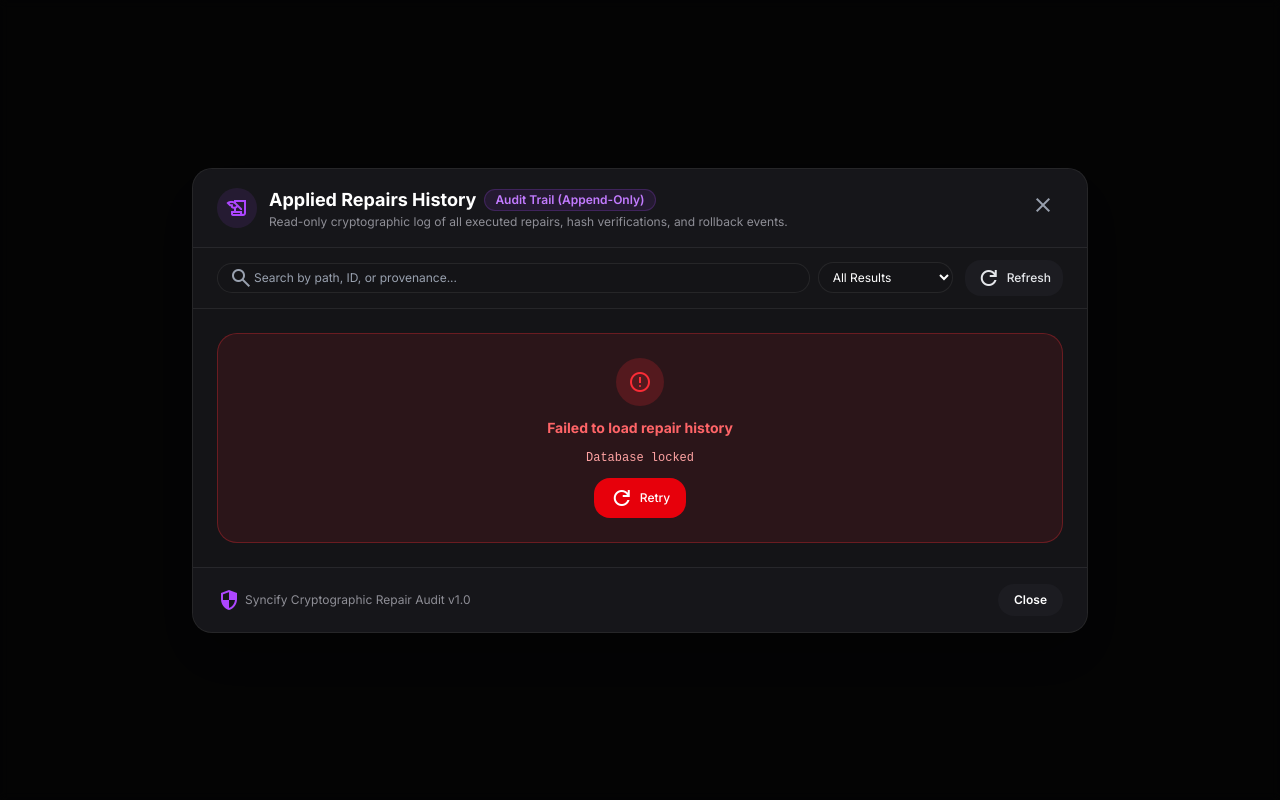
RepairHistoryModal › renders error state on command failure and allows retry
What coordinates should you click on to do the following:
click the button "Retry"
I would click on:
 (640, 498)
Its box is [594,478,686,518].
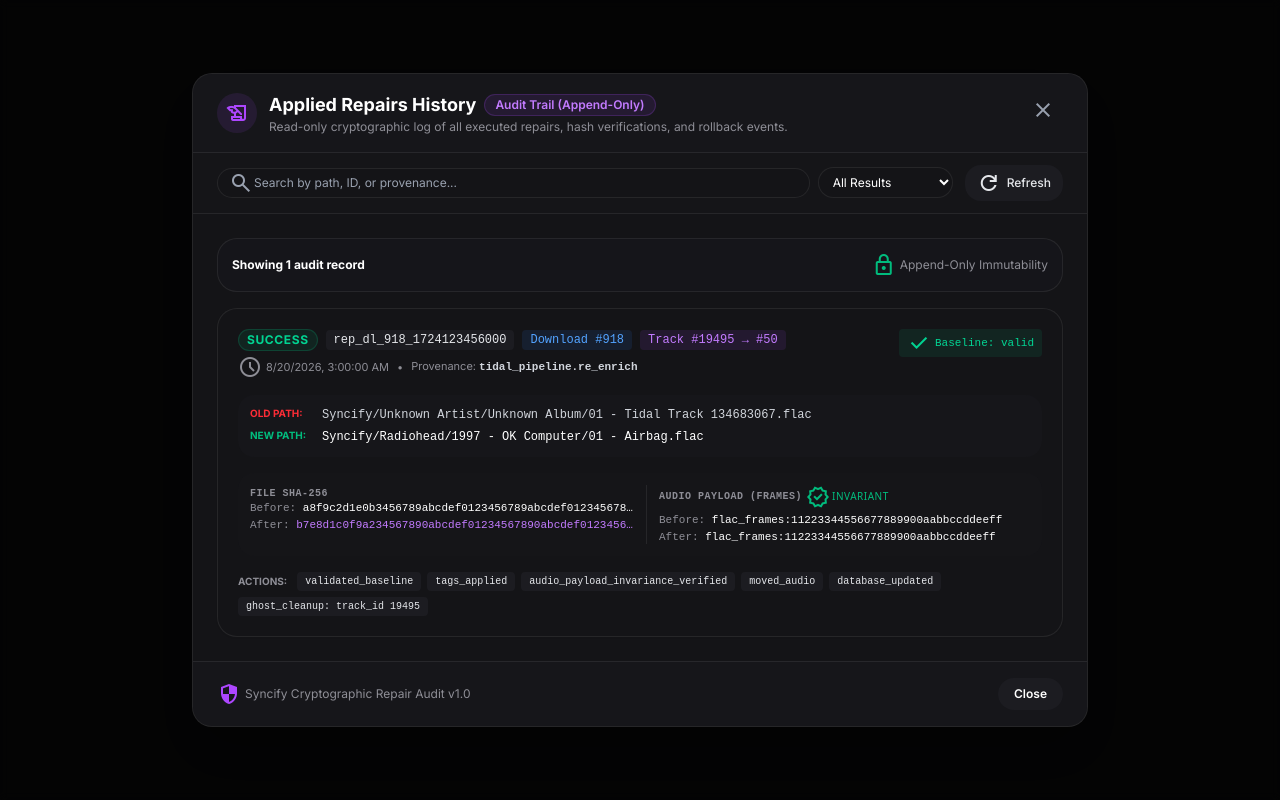
Expected: the text "rep_dl_918_1724123456000" is shown, [326,330,514,350]
